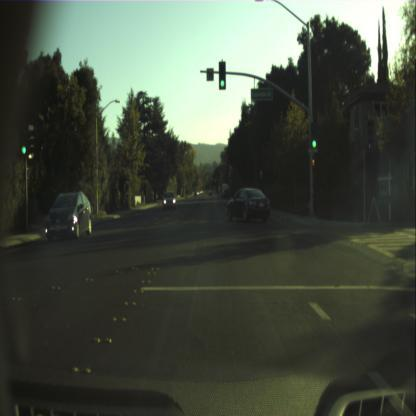Green: (218, 61, 226, 89), (310, 123, 317, 148), (20, 128, 26, 156), (211, 177, 212, 180)
Red: (204, 175, 206, 178)
